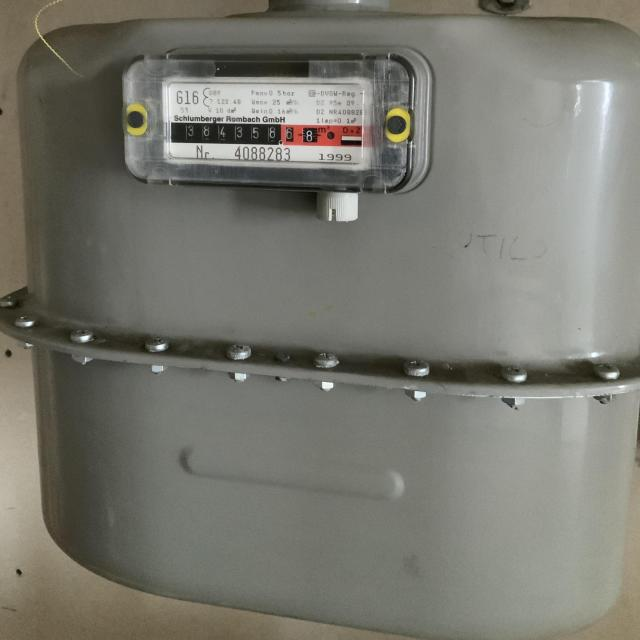gaz_meter: (161, 74, 370, 169)
indication: (177, 123, 318, 147)
